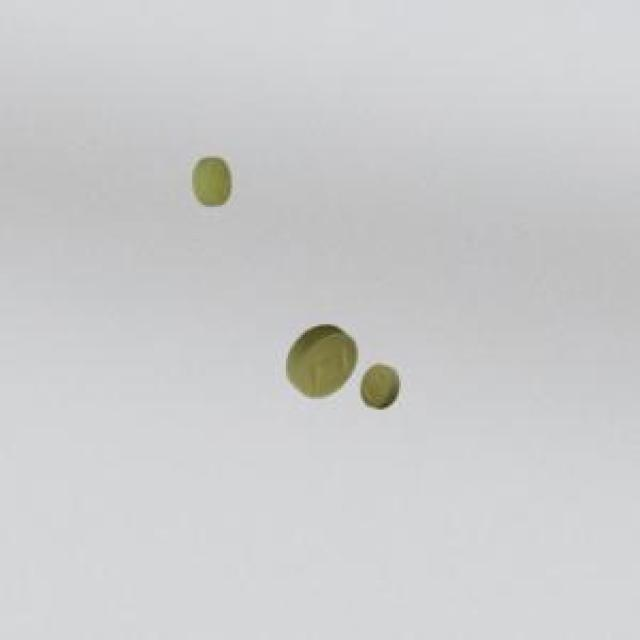Decolgen: (277, 318, 406, 424), (184, 147, 236, 214)
